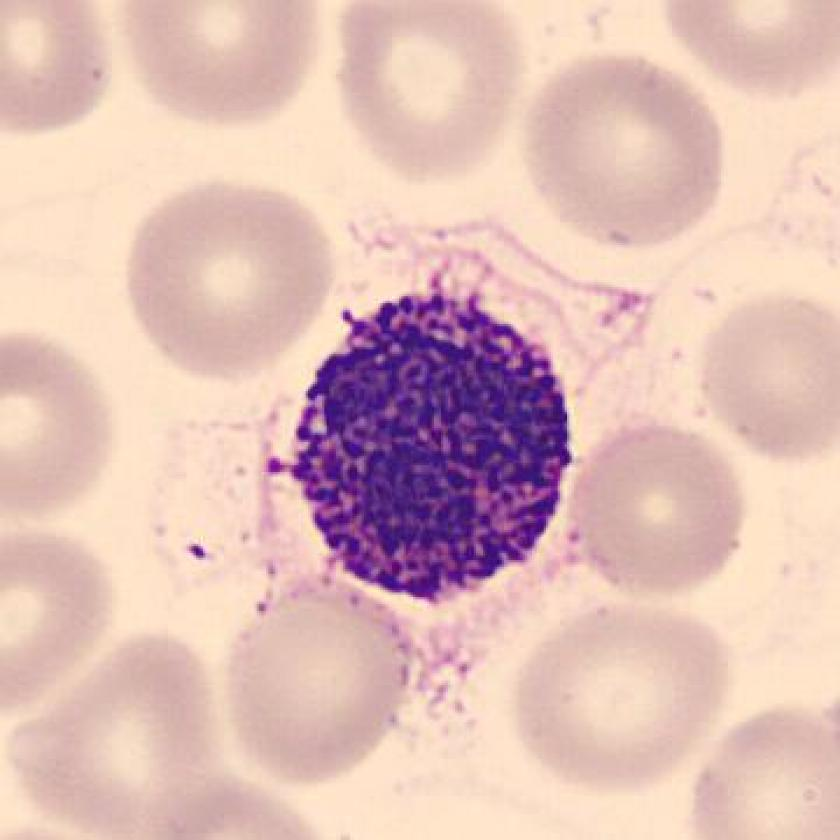basophil: (279, 279, 587, 612)
